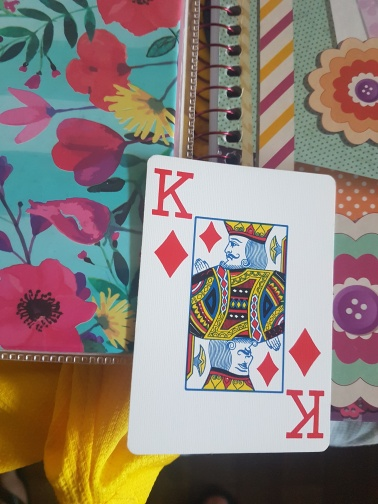king: (126, 156, 337, 452)
